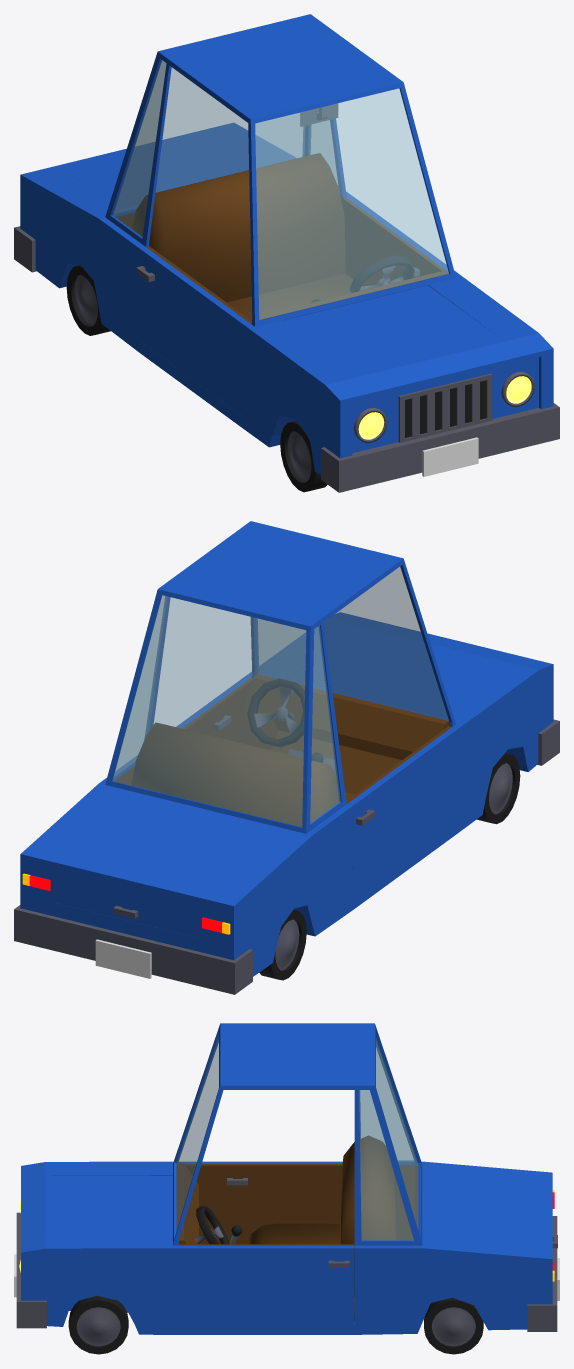
The model's file is car model 1.fbx.
3 renders of one model, top to bottom at view 1: azimuth 30°, elevation 25°; view 2: azimuth 150°, elevation 25°; view 3: azimuth 270°, elevation 25°, orthographic. The views are drawn at different scales.
Visible parts, largest first — view 1: chasse.003, glass, hood.003, door_right.003, bumper_front.005, trunk.003, door_left.003, wheel_backleft.027, wheel_backleft.026, bumper_back.003; view 2: chasse.003, glass, trunk.003, hood.003, door_right.003, bumper_back.003, door_left.003, wheel_backleft.027, wheel_backleft.026, bumper_front.005; view 3: chasse.003, door_left.003, glass, door_right.003, hood.003, trunk.003, wheel_backleft.024, wheel_backleft.025, bumper_front.005, bumper_back.003.
Part boxes in pixels (x1=…): chasse.003: x1=20, y1=14, x2=553, y2=474; glass: x1=112, y1=60, x2=448, y2=319; hood.003: x1=284, y1=285, x2=518, y2=391; door_right.003: x1=136, y1=246, x2=251, y2=417; bumper_front.005: x1=321, y1=403, x2=559, y2=492; trunk.003: x1=55, y1=131, x2=262, y2=207; door_left.003: x1=343, y1=196, x2=458, y2=286; wheel_backleft.027: x1=280, y1=421, x2=327, y2=492; wheel_backleft.026: x1=66, y1=265, x2=110, y2=335; bumper_back.003: x1=14, y1=226, x2=36, y2=272; chasse.003: x1=20, y1=521, x2=553, y2=976; glass: x1=112, y1=567, x2=448, y2=826; trunk.003: x1=54, y1=795, x2=273, y2=937; hood.003: x1=288, y1=620, x2=518, y2=714; door_right.003: x1=346, y1=726, x2=458, y2=897; bumper_back.003: x1=14, y1=905, x2=252, y2=994; door_left.003: x1=176, y1=676, x2=254, y2=746; wheel_backleft.027: x1=477, y1=753, x2=520, y2=824; wheel_backleft.026: x1=259, y1=910, x2=306, y2=980; bumper_front.005: x1=537, y1=719, x2=559, y2=765; chasse.003: x1=19, y1=1023, x2=554, y2=1334; door_left.003: x1=178, y1=1244, x2=354, y2=1324; glass: x1=176, y1=1036, x2=418, y2=1240; door_right.003: x1=178, y1=1161, x2=342, y2=1242; hood.003: x1=21, y1=1176, x2=172, y2=1238; trunk.003: x1=429, y1=1176, x2=557, y2=1248; wheel_backleft.024: x1=68, y1=1295, x2=128, y2=1354; wheel_backleft.025: x1=424, y1=1297, x2=483, y2=1354; bumper_front.005: x1=14, y1=1212, x2=46, y2=1328; bumper_back.003: x1=527, y1=1216, x2=559, y2=1331.
Size of the model in its own units: 225 by 295 by 566.
